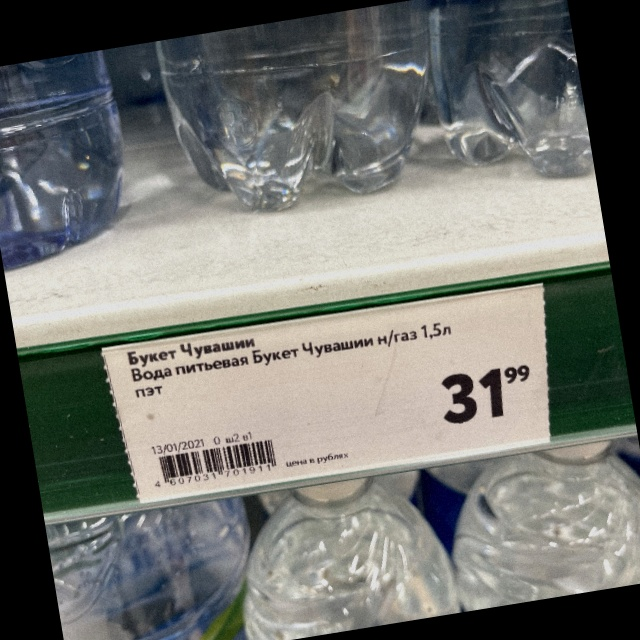barcode: (153, 437, 278, 489)
name: (124, 320, 454, 403)
price: (439, 361, 535, 427)
price_tag: (99, 278, 553, 505)
